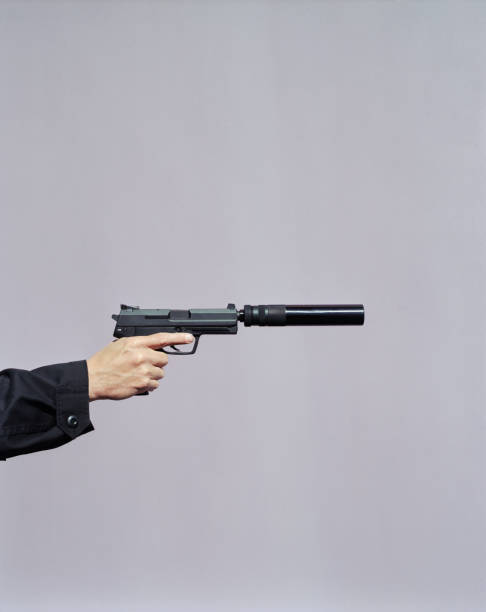pistol: (114, 298, 373, 352)
